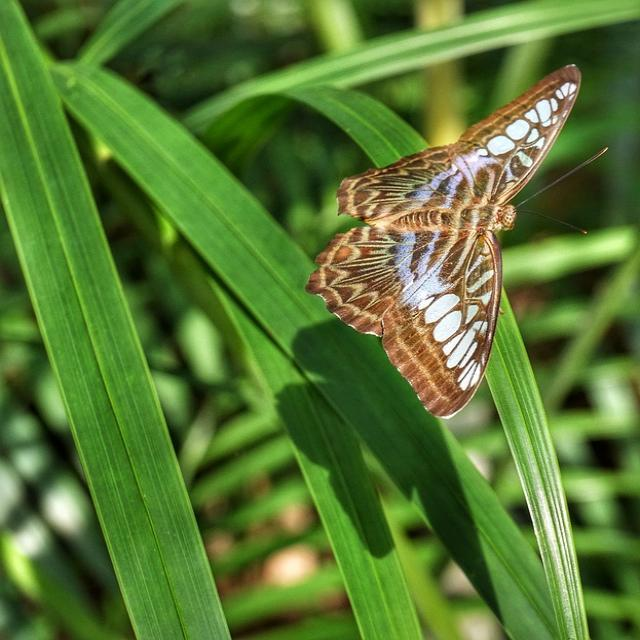butterfly: (306, 64, 581, 422)
